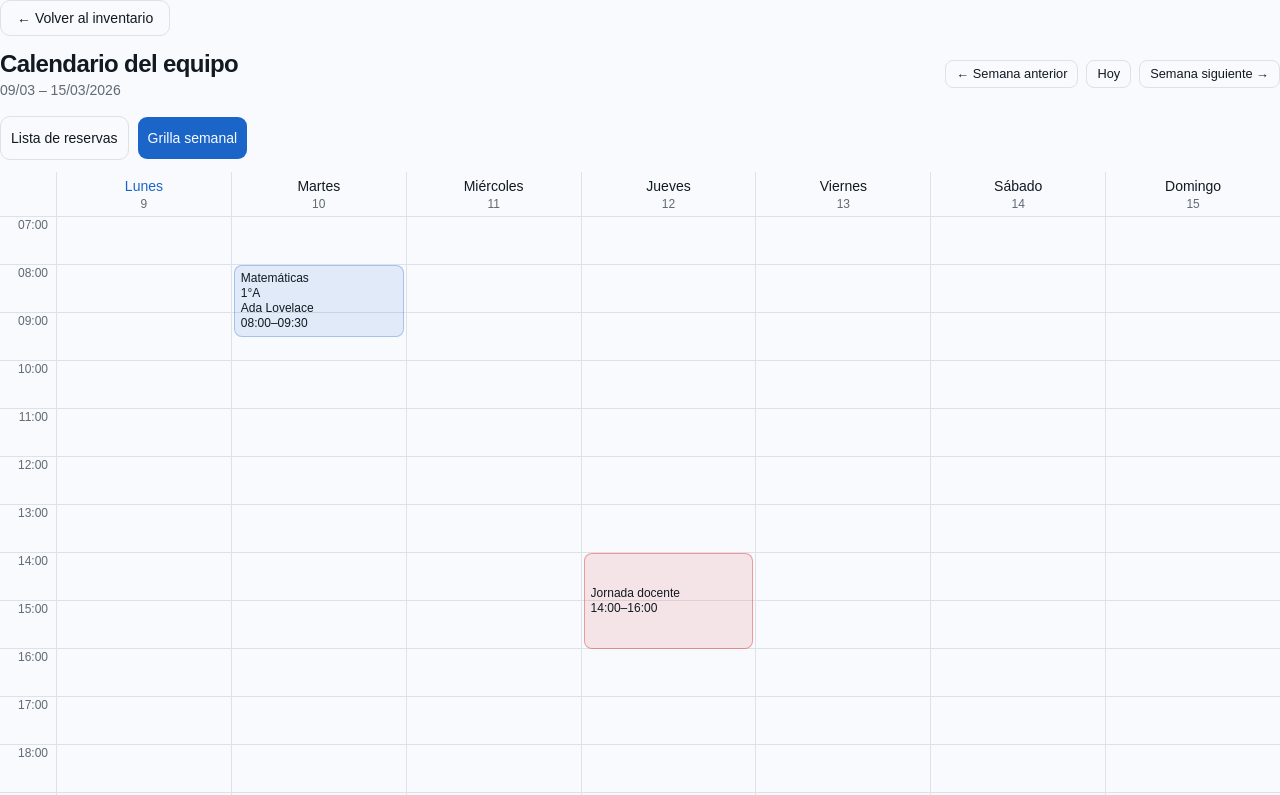
it: CalendarioEquipoPage › la vista de lista permite abrir el motivo de un bloqueo
This screenshot has width=1280, height=795.
Click the button "Lista de reservas" at (64,138), box [0,116,129,160]
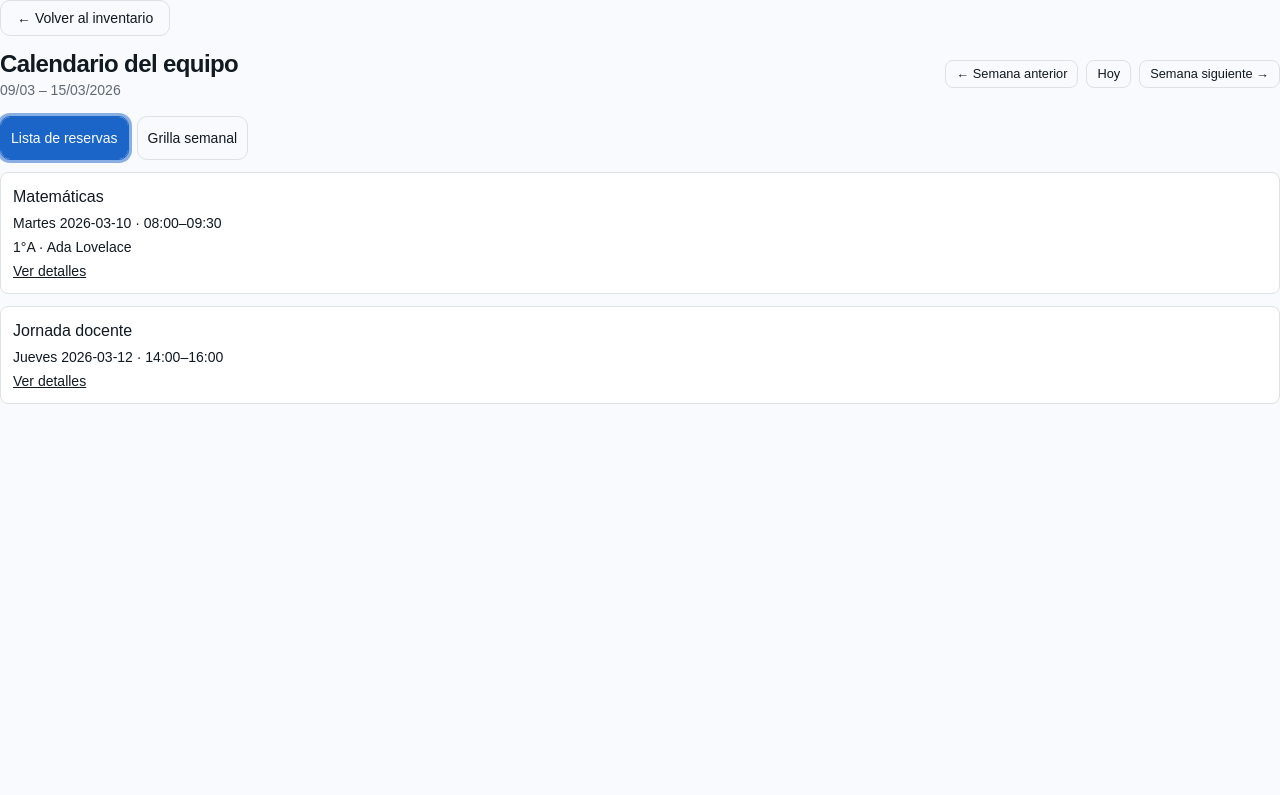
Click the button "Jornada docente Jueves 2026-03-12 · 14:00–16:00 Ver detalles" at (73,330), box [0,306,1279,404]
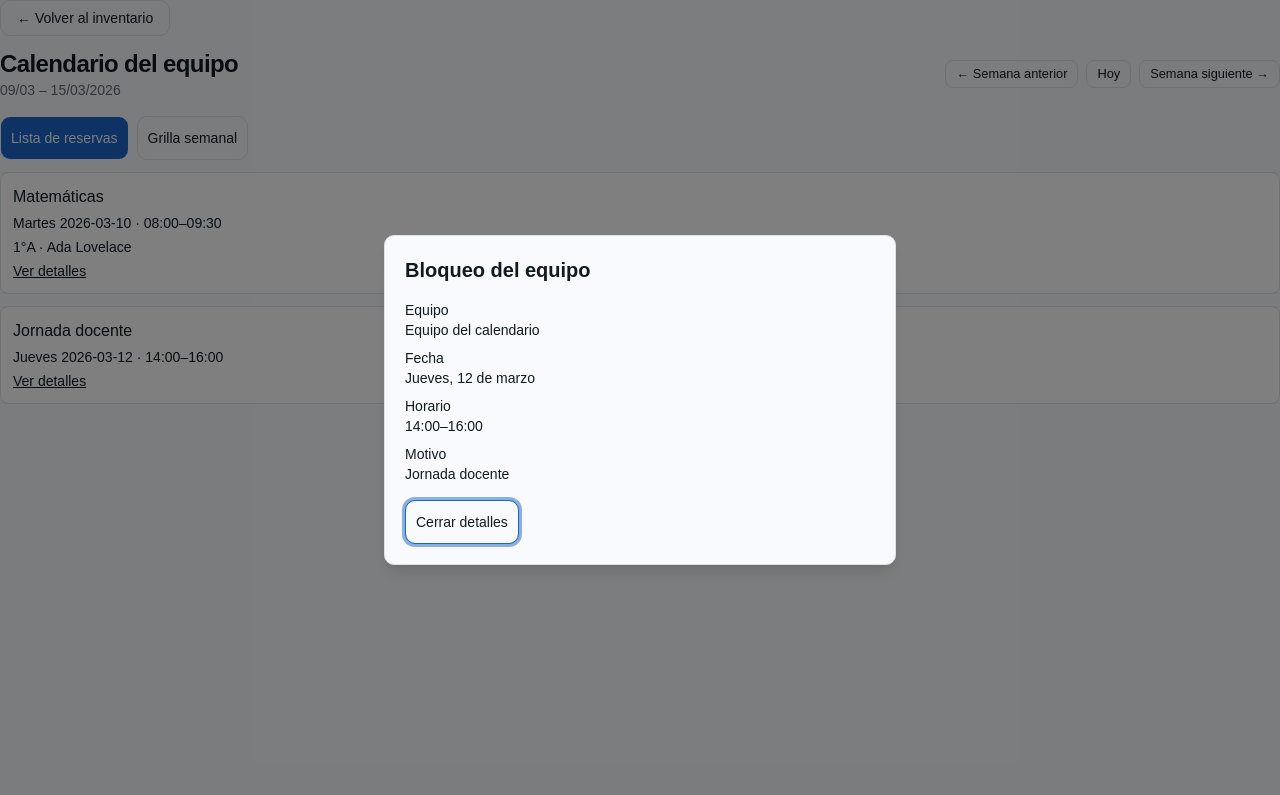
Check: the dialog "Bloqueo del equipo" is shown, box [384,235,896,565]
Check: the text "Motivo" is shown, box [405,446,446,462]
